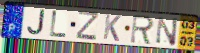J: (26, 8, 46, 37)
K: (102, 13, 123, 43)
L: (49, 9, 69, 39)
N: (155, 16, 180, 47)
R: (129, 13, 156, 46)
Z: (75, 10, 101, 42)
